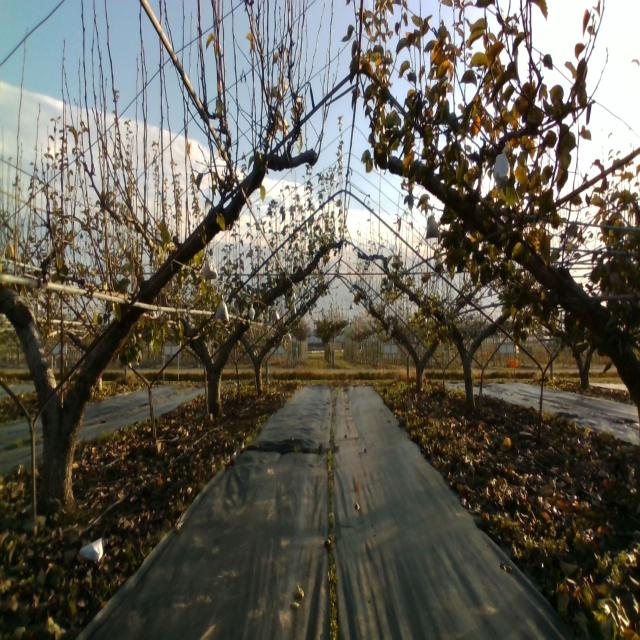pearbags: (493, 151, 511, 182), (201, 251, 219, 281), (215, 293, 230, 322), (426, 216, 440, 239)
